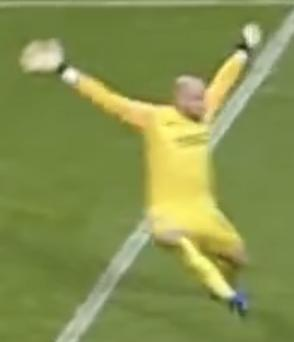goalkeeper: (4, 6, 294, 342)
